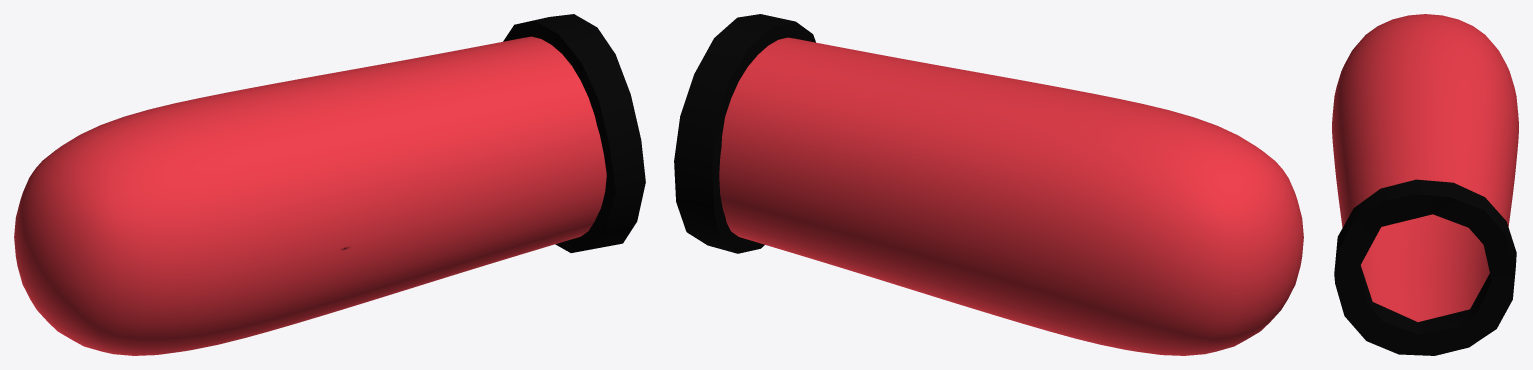
File: redcanon.fbx
3 renders of one model, left to right at view 1: azimuth 30°, elevation 25°; view 2: azimuth 150°, elevation 25°; view 3: azimuth 270°, elevation 25°, orthographic. The views are drawn at different scales.
Visible parts, largest first — view 1: canonv2; view 2: canonv2; view 3: canonv2.
Boxes of the visible parts, <box> form: canonv2: <box>14,14,645,355</box>; canonv2: <box>674,14,1303,355</box>; canonv2: <box>1332,14,1518,355</box>.
Size of the model in its own units: 574 by 215 by 215.
1 material, 1 textured.
